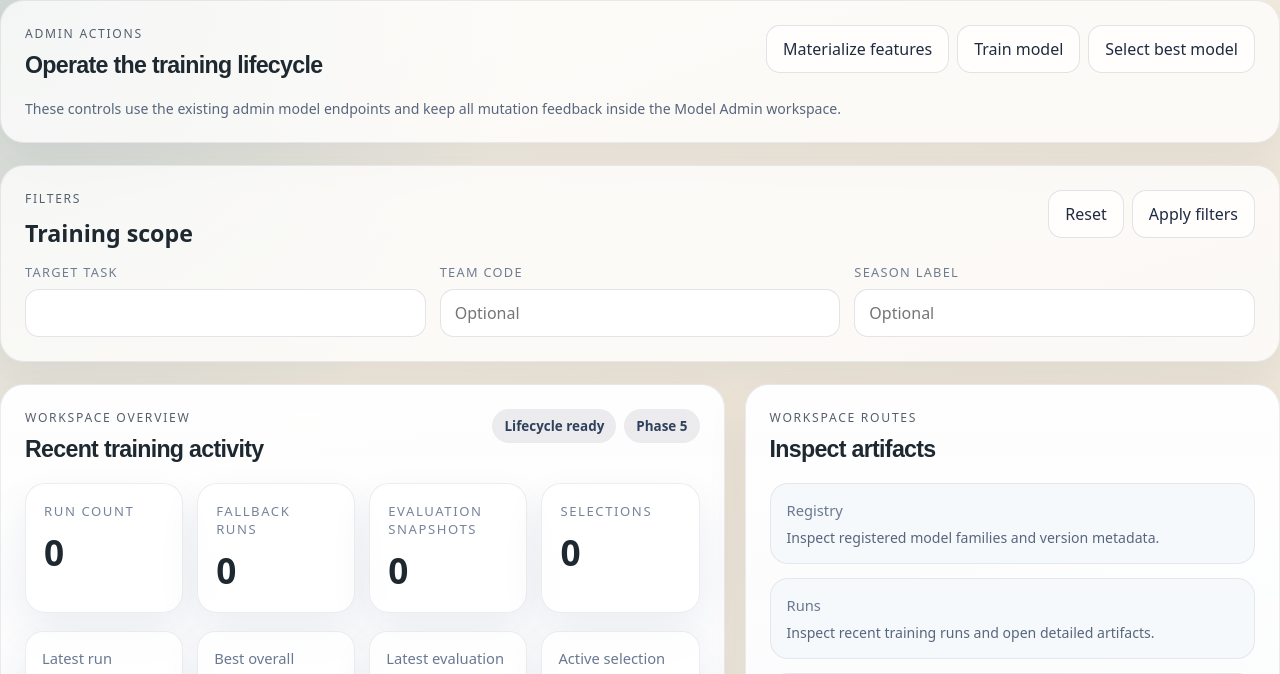
ModelAdminWorkspace › loads task options from model capabilities into the admin actions form
This screenshot has width=1280, height=674.
Expected: the heading "Recent training activity" is shown, top-left (25, 436), bottom-right (263, 463)
Click the button "Train model" at [1019, 49], box top-left (957, 25), bottom-right (1080, 73)
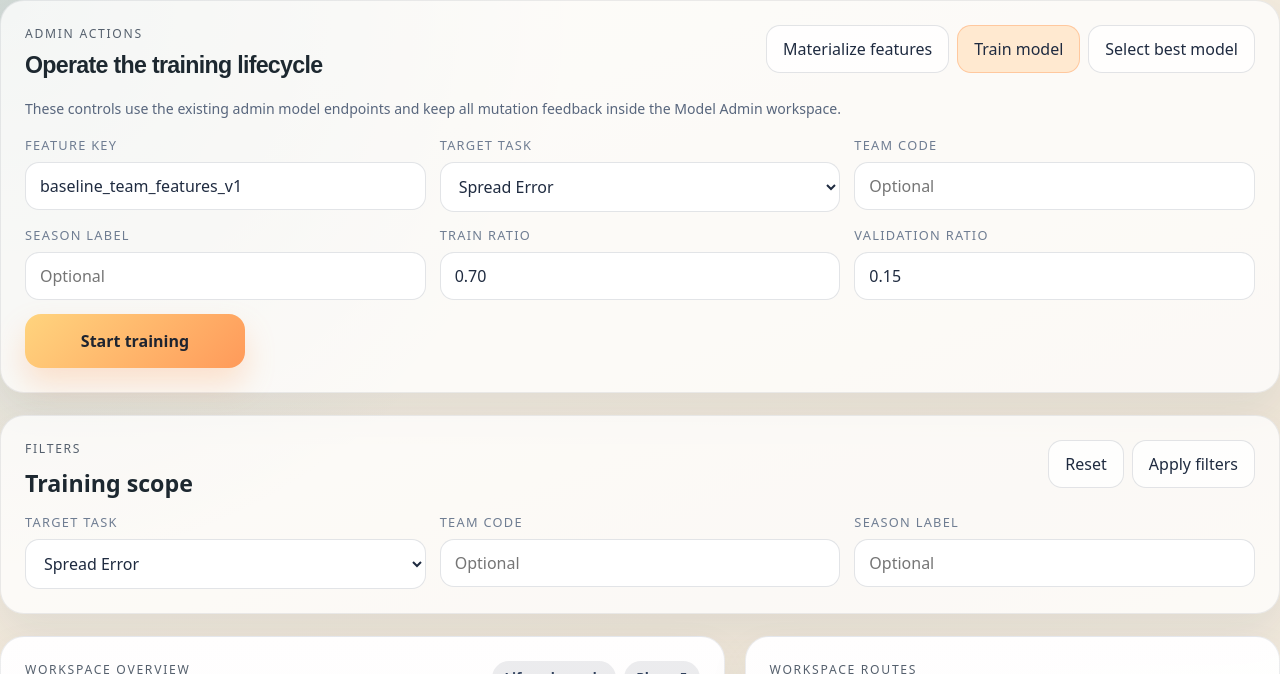
Result: the dropdown with test id "train-target-task" shows "Spread Error" at top-left (440, 162), bottom-right (840, 212)
